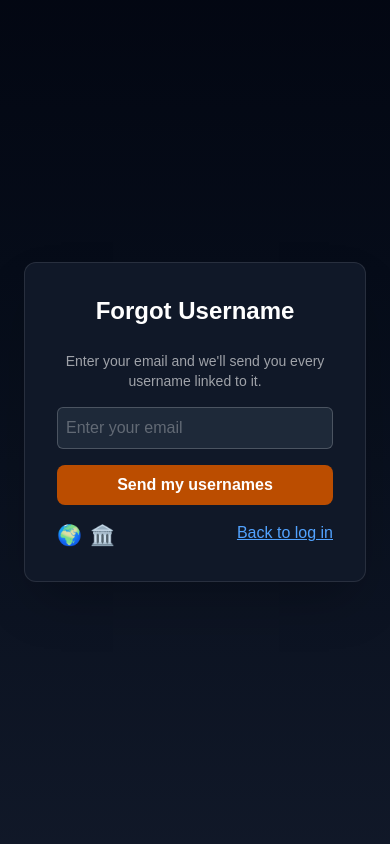
Test: ForgotUsernamePage › shows a server error and stays on the form when the request fails
Type "not-an-email" into the field with placeholder "Enter your email" at (195, 428), box [57,407,333,449]
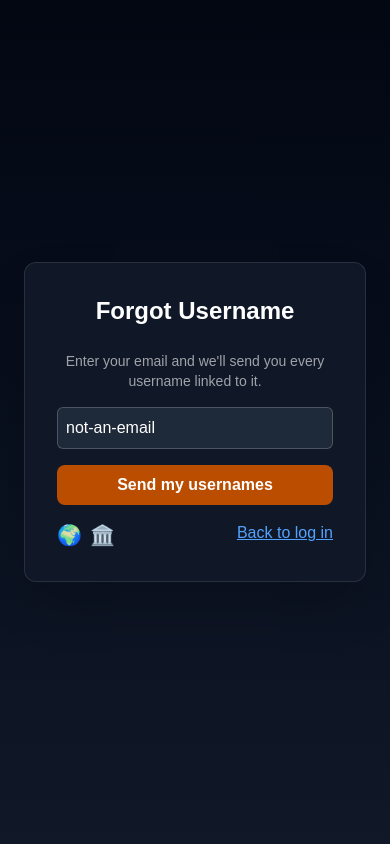
Click the button "Send my usernames" at (195, 485), box [57,465,333,505]
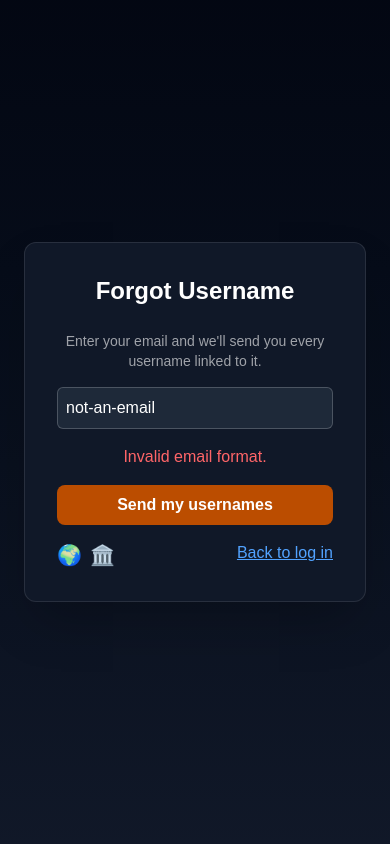
Expected: the button "Send my usernames" is shown, [57,485,333,525]
Expected: the text "Invalid email format." is shown, [123,448,267,465]
